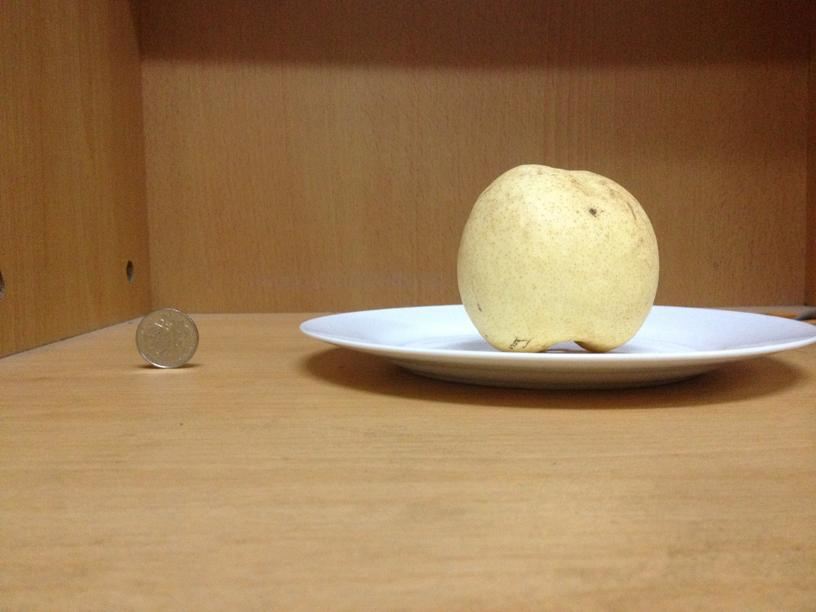coin: (137, 309, 200, 368)
pear: (456, 166, 659, 345)
